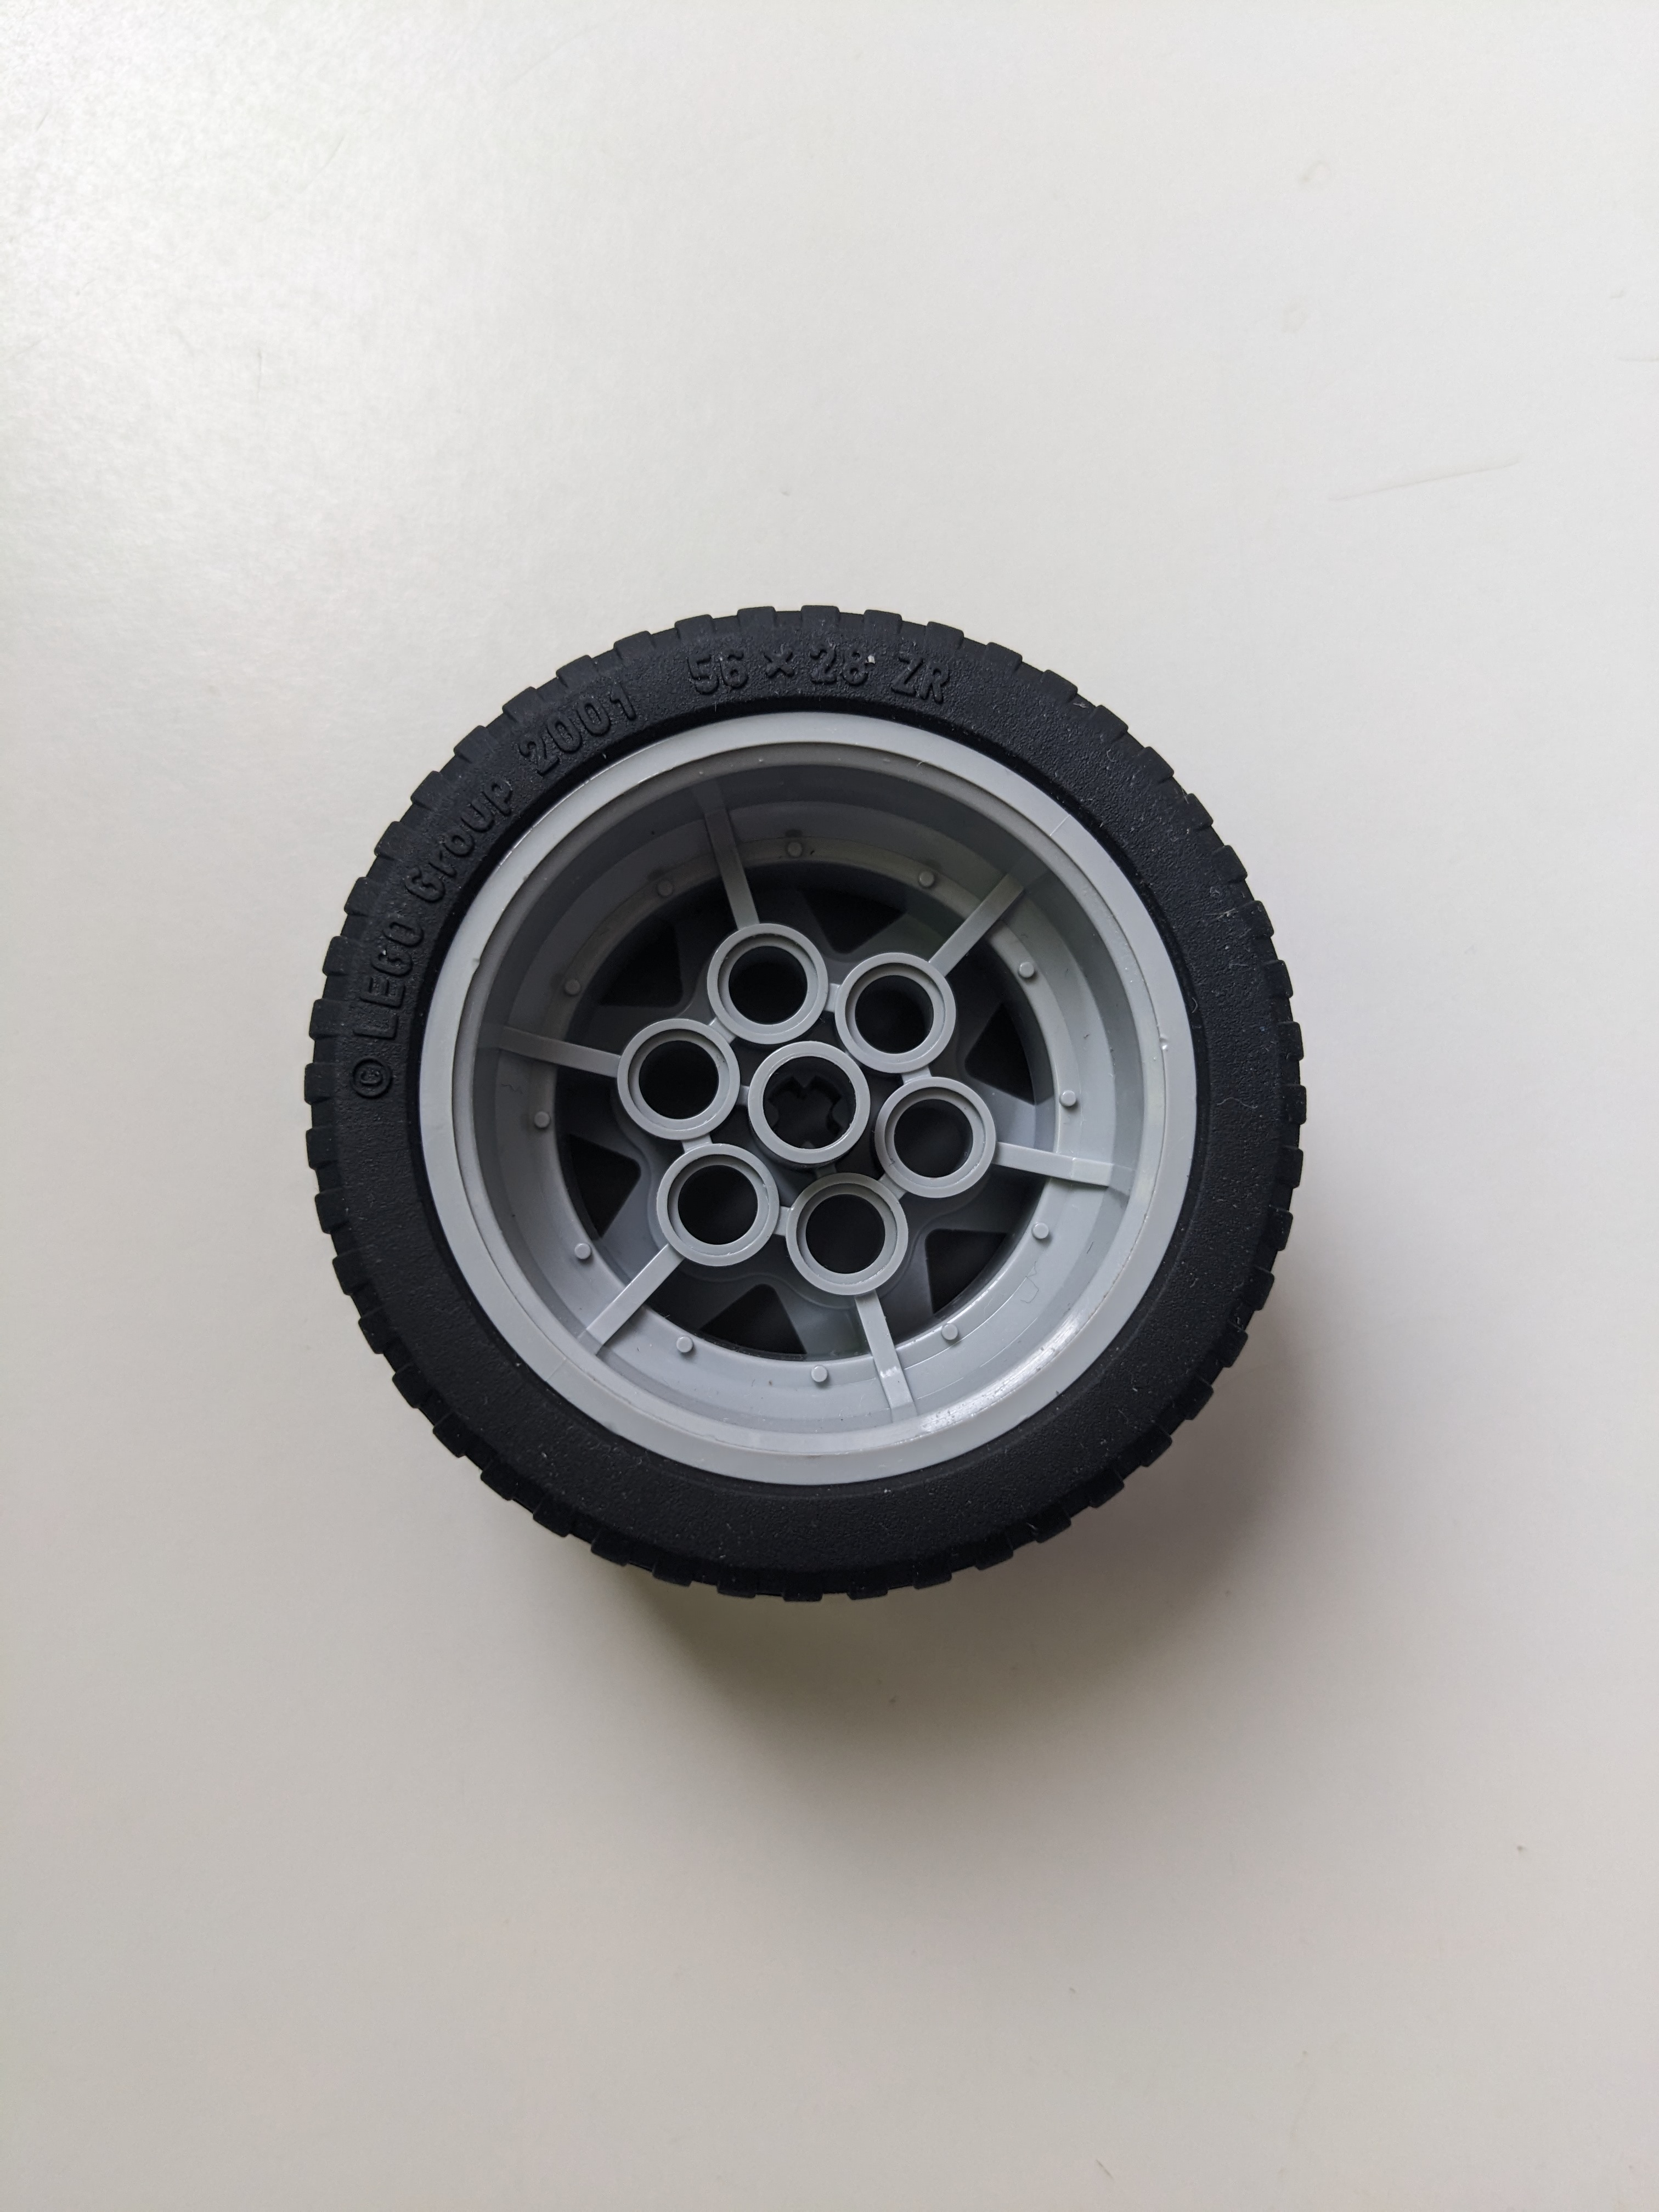Rad: (277, 580, 1323, 1632)
